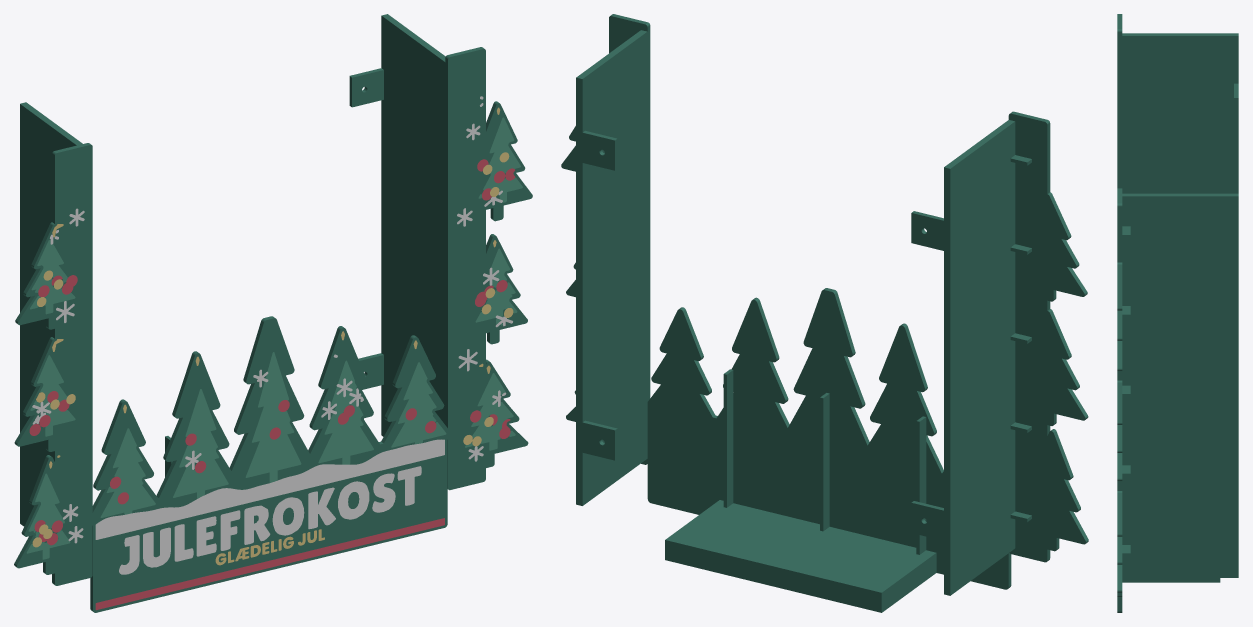
File: parts.glb
3 views of the same model, side by side, from view 1: azimuth 30°, elevation 25°; view 2: azimuth 150°, elevation 25°; view 3: azimuth 270°, elevation 25° (orthographic). The views are drawn at different scales.
Visible parts, largest first — view 1: wing_right__base, topper__base, wing_left__base, topper__snow, topper__pine, wing_right__pine, topper__red, wing_left__pine, wing_left__red, wing_right__snow, wing_right__red, topper__gold (+3 smaller); view 2: topper__base, wing_left__base, wing_right__base; view 3: wing_right__base, wing_left__base, topper__base.
Boxes of the visible parts, left/top/right/bottom form: wing_right__base: left=349, top=14, right=532, bottom=490; topper__base: left=87, top=316, right=452, bottom=612; wing_left__base: left=14, top=102, right=92, bottom=585; topper__snow: left=95, top=354, right=444, bottom=574; topper__pine: left=100, top=352, right=446, bottom=517; wing_right__pine: left=465, top=117, right=522, bottom=450; topper__red: left=95, top=400, right=444, bottom=610; wing_left__pine: left=26, top=240, right=75, bottom=559; wing_left__red: left=29, top=275, right=77, bottom=545; wing_right__snow: left=457, top=96, right=512, bottom=461; wing_right__red: left=470, top=159, right=515, bottom=438; topper__gold: left=123, top=331, right=417, bottom=565; topper__base: left=647, top=288, right=1011, bottom=612; wing_left__base: left=911, top=111, right=1088, bottom=595; wing_right__base: left=561, top=14, right=650, bottom=505; wing_right__base: left=1117, top=188, right=1238, bottom=597; wing_left__base: left=1117, top=14, right=1238, bottom=193; topper__base: left=1117, top=578, right=1220, bottom=612.
Bounding box in the file's own units: 327 × 284 × 73.
